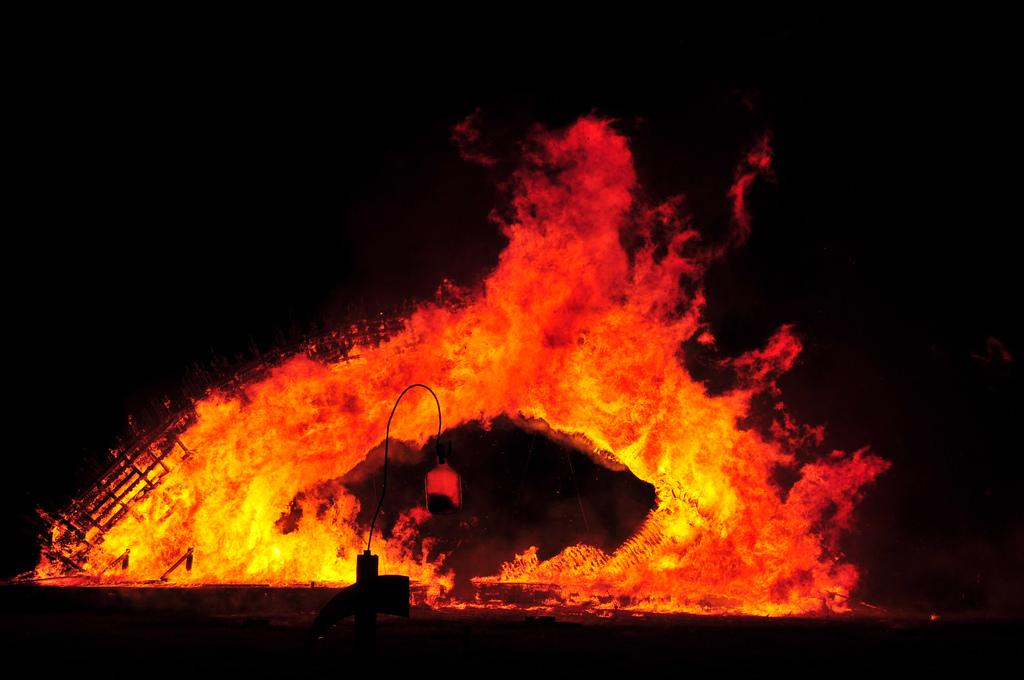fire: (187, 360, 397, 583), (480, 223, 673, 427), (652, 445, 822, 608), (163, 558, 187, 583)
